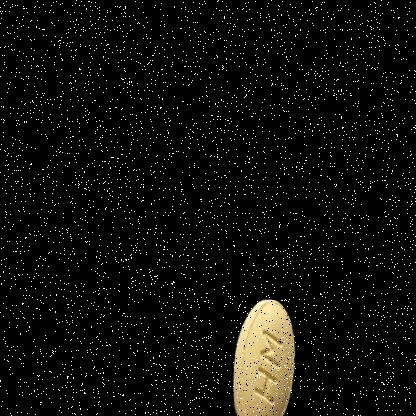tovast10: (187, 255, 332, 416)
